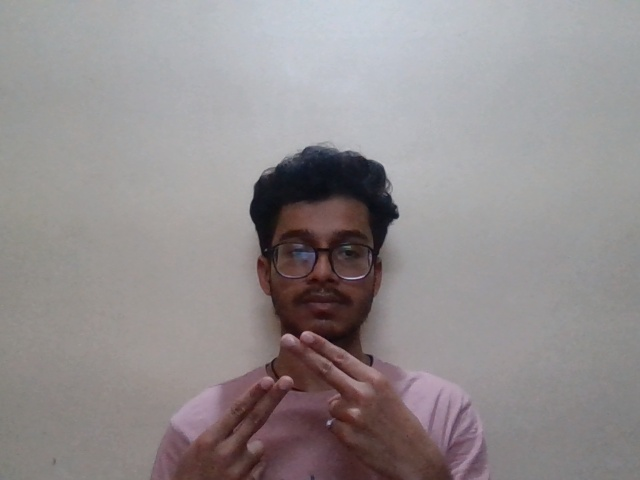my-name-is: (186, 326, 409, 453)
